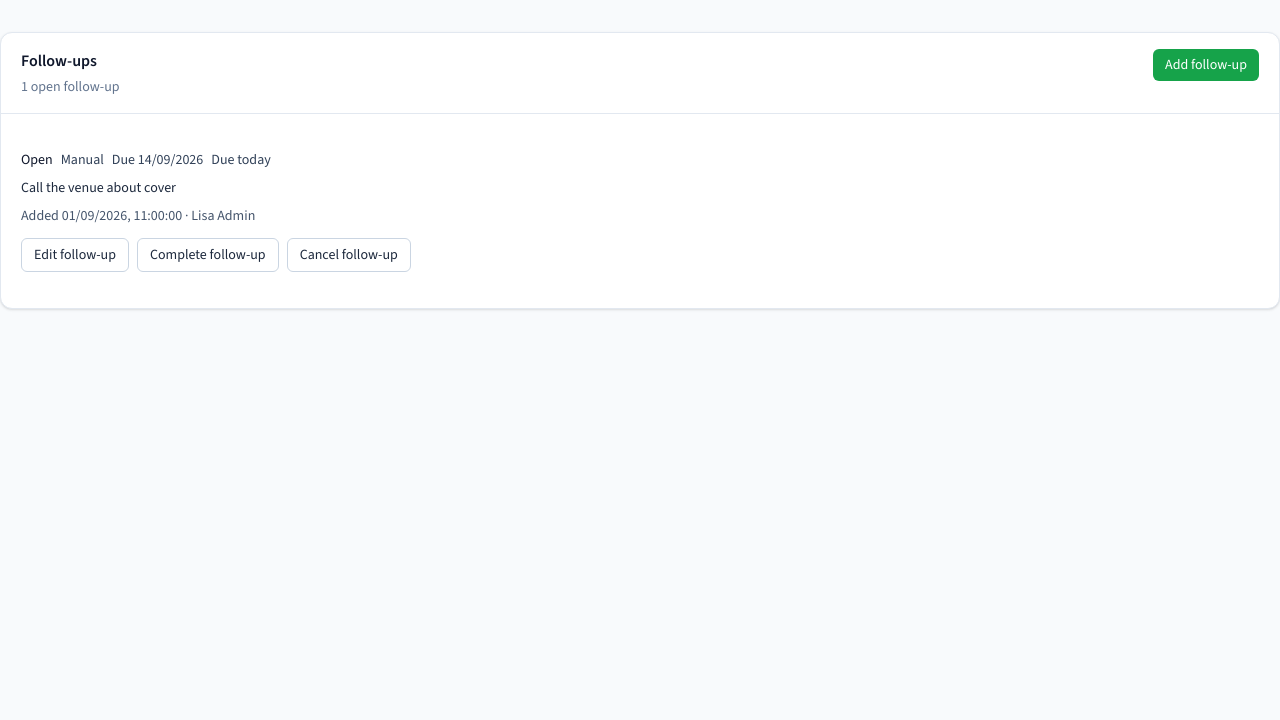
Test: open follow-up mutations › keeps the entered edit when validation fails
Click the button "Edit follow-up". click: (75, 255)
box: [21,238,129,272]
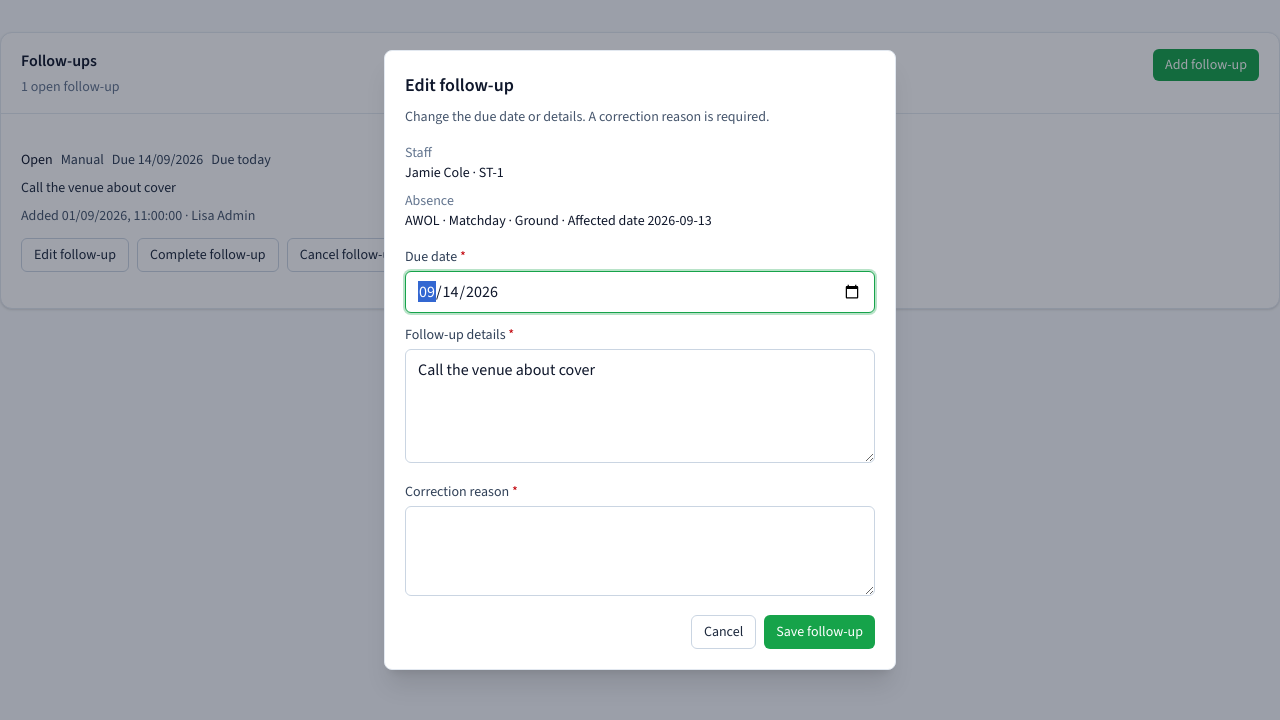
Replace the text in the text box labelled "Follow-up details *" with "x". click: (640, 406)
box: [405,349,875,463]
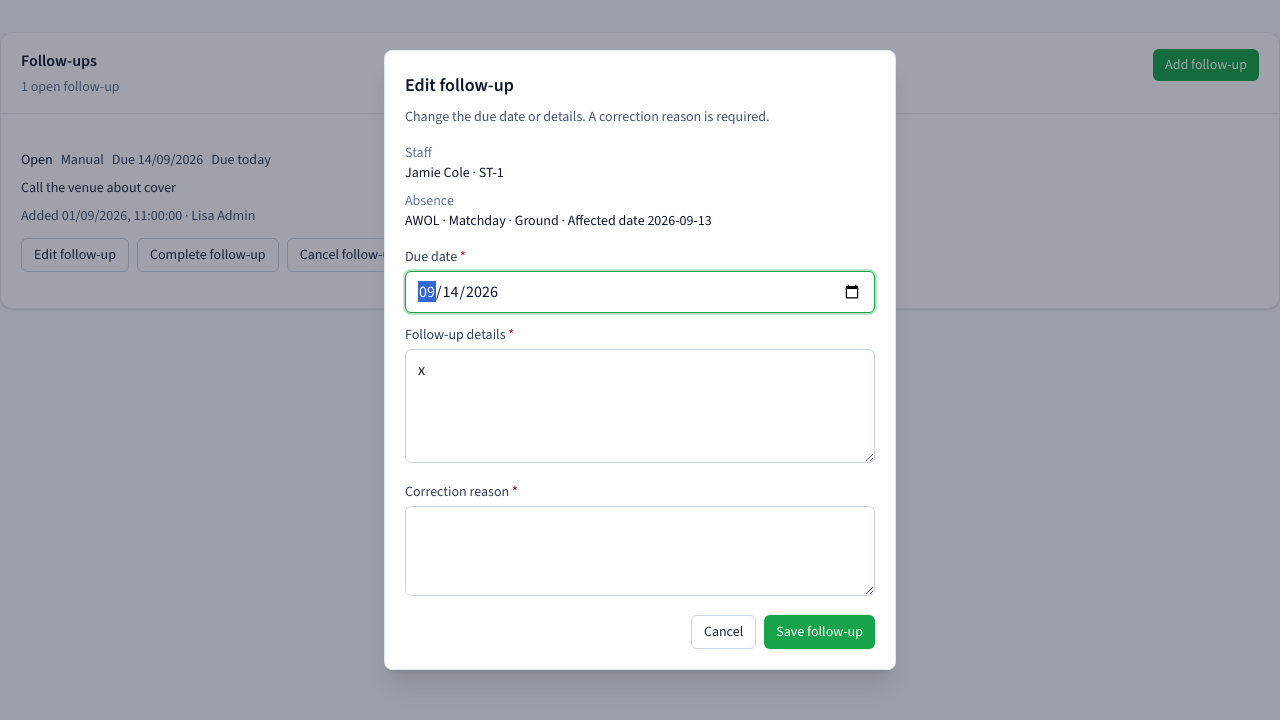
Type "Corrected the note" into the text box labelled "Correction reason *". click: (640, 551)
box: [405,506,875,596]
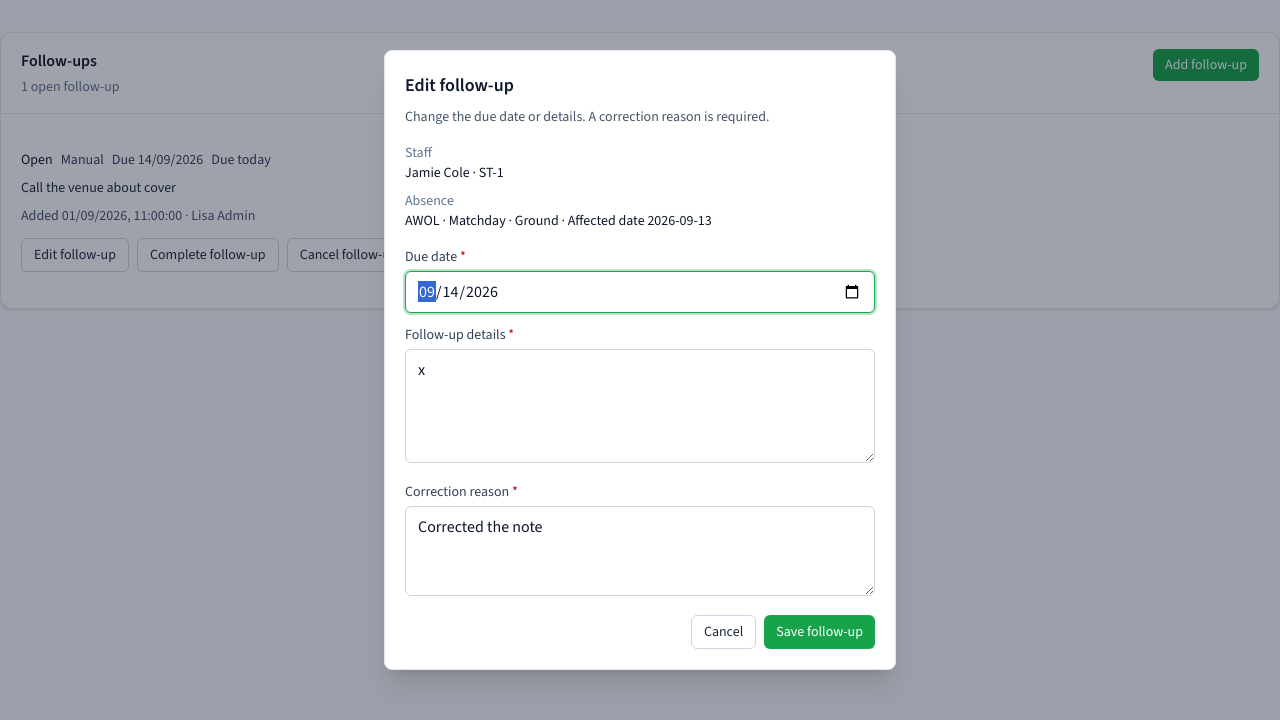
Click the button "Save follow-up". click: (820, 632)
box: [764,615,875,649]
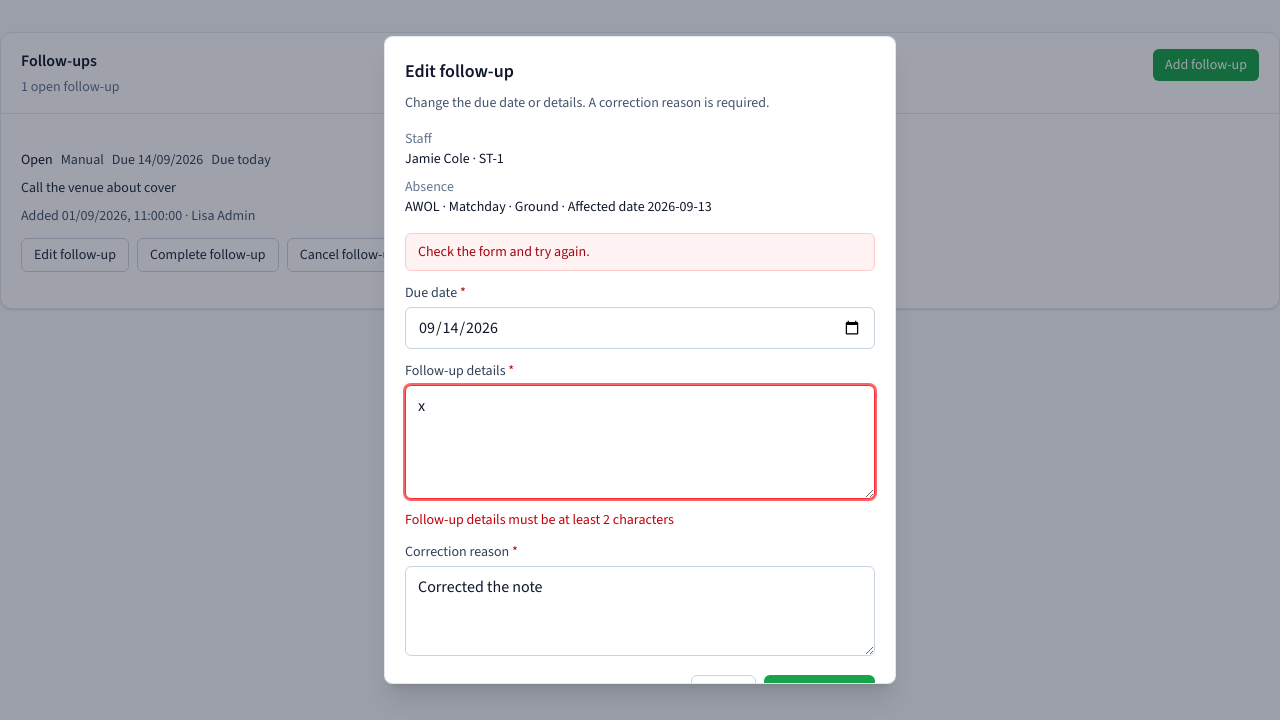
Expected: the message reads "Check the form and try again.", [418,242,590,261]
